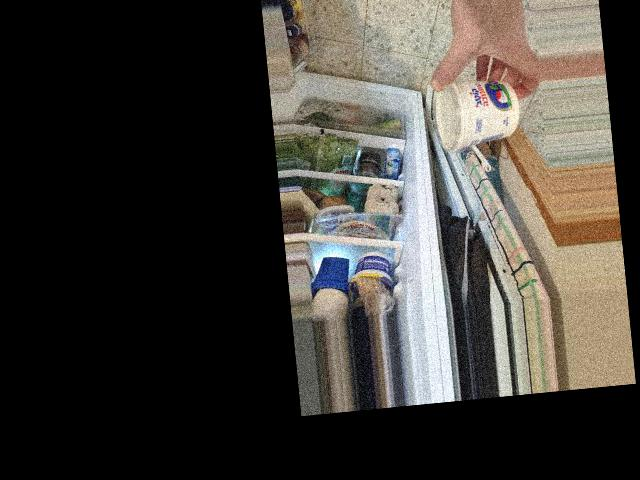cotage: (431, 70, 525, 153)
